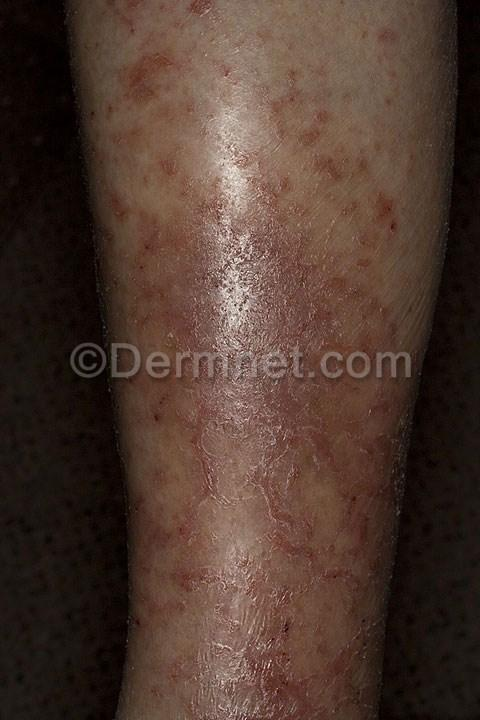Eczema: (319, 253, 398, 357), (149, 229, 240, 317), (231, 23, 309, 119), (144, 397, 242, 471), (334, 434, 398, 544), (166, 37, 246, 122), (221, 148, 299, 234), (319, 547, 396, 632), (241, 233, 323, 312), (88, 229, 153, 325), (347, 168, 418, 253), (243, 379, 333, 446), (325, 355, 403, 430), (162, 319, 237, 396), (237, 609, 305, 690), (197, 473, 268, 550), (299, 623, 378, 692), (263, 454, 326, 537), (160, 149, 229, 223), (302, 166, 365, 244), (243, 310, 316, 375), (256, 543, 320, 616), (89, 330, 160, 394), (133, 483, 204, 547), (93, 391, 145, 474), (185, 546, 254, 608), (173, 603, 238, 668), (112, 42, 168, 116), (120, 602, 175, 674), (287, 103, 345, 171), (361, 17, 409, 93), (81, 153, 135, 220), (391, 137, 445, 201), (111, 127, 175, 176), (180, 663, 238, 716), (300, 679, 374, 720), (135, 547, 185, 606), (119, 676, 177, 720), (76, 88, 121, 143), (87, 0, 148, 39), (235, 672, 296, 711), (308, 48, 352, 99), (373, 89, 409, 141), (181, 0, 228, 36)
